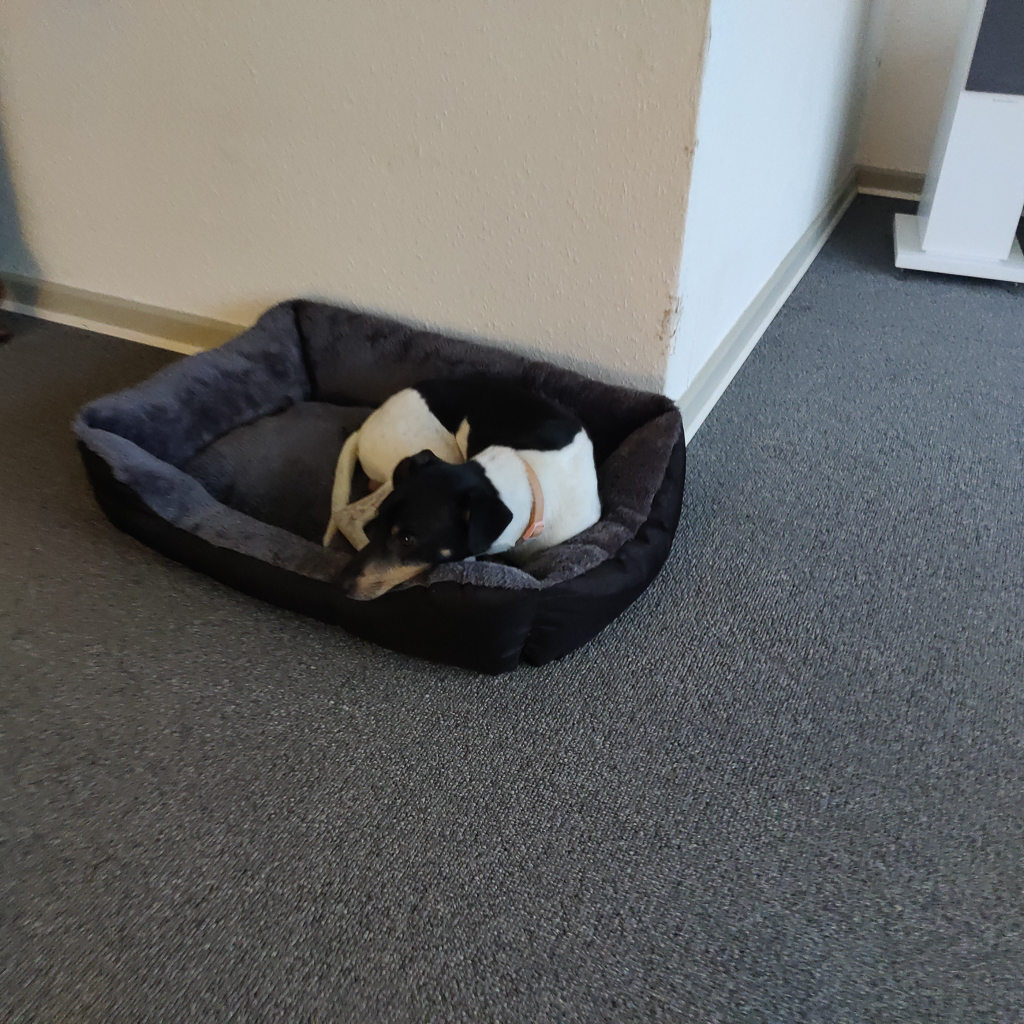Dog: (295, 335, 623, 618)
